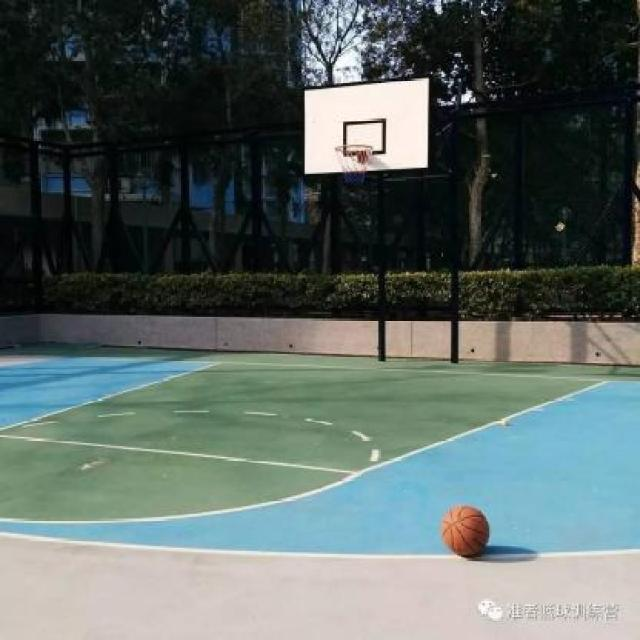basketball: (442, 504, 490, 556)
rim: (335, 142, 371, 185)
